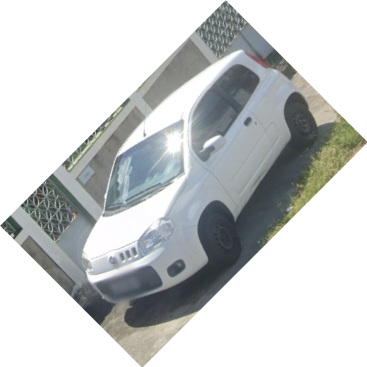car: (83, 50, 319, 301)
